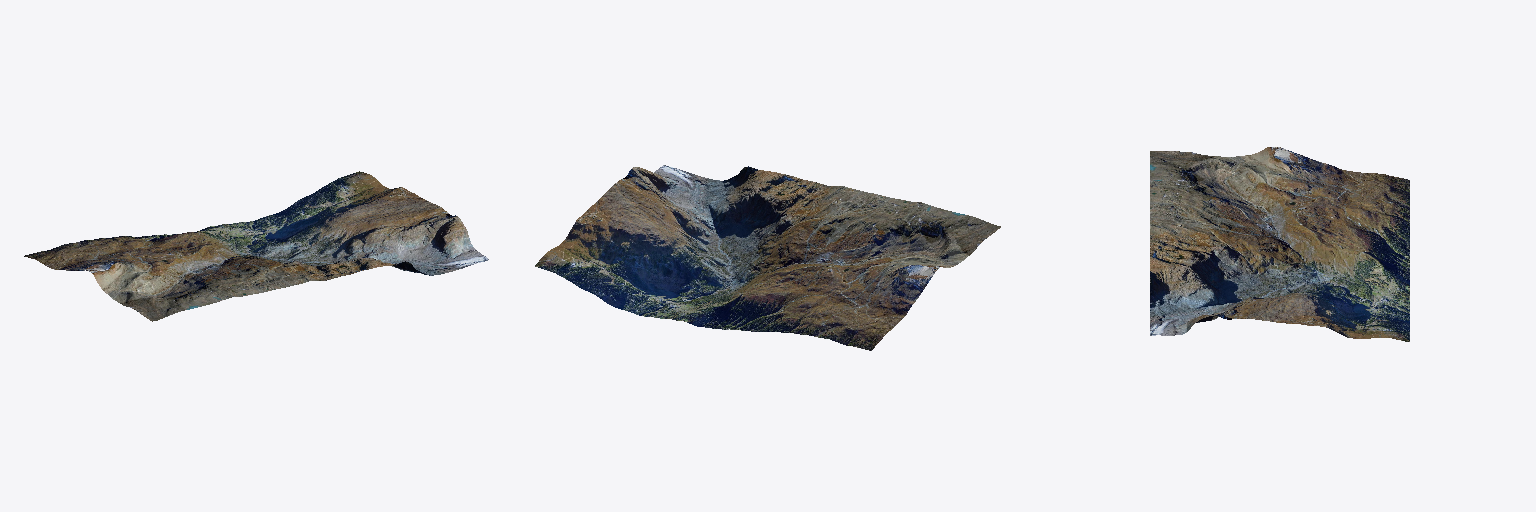
3 views of the same model, side by side, from view 1: azimuth 30°, elevation 25°; view 2: azimuth 150°, elevation 25°; view 3: azimuth 270°, elevation 25° (orthographic).
Visible parts, largest first — view 1: EXPORT_GOOGLE_SAT_WM.016; view 2: EXPORT_GOOGLE_SAT_WM.016; view 3: EXPORT_GOOGLE_SAT_WM.016.
Part boxes in pixels (bbox=[...]): EXPORT_GOOGLE_SAT_WM.016: bbox=[24, 171, 488, 321]; EXPORT_GOOGLE_SAT_WM.016: bbox=[535, 165, 1000, 350]; EXPORT_GOOGLE_SAT_WM.016: bbox=[1150, 147, 1409, 341].
Bounding box in the file's own units: 9124 × 1437 × 6083.
1 materials, 1 textured.